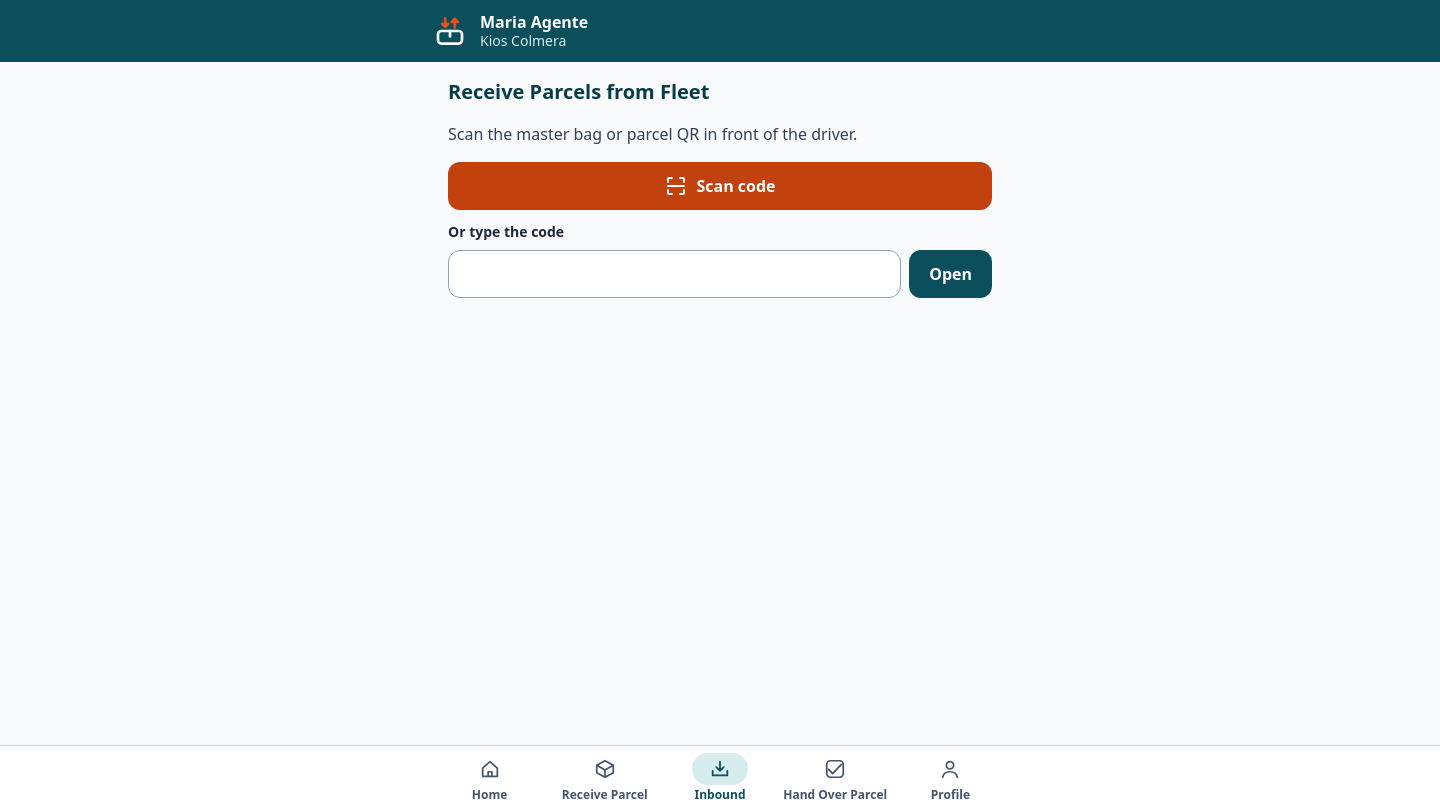
Test: inbound scan (destination kiosk) › shows the server’s message when the bag is not for this kiosk
Step 1. Type "MB-261121-7K3M9Q" into the field labelled "Or type the code" → x=675, y=274, box [448,250,901,298]
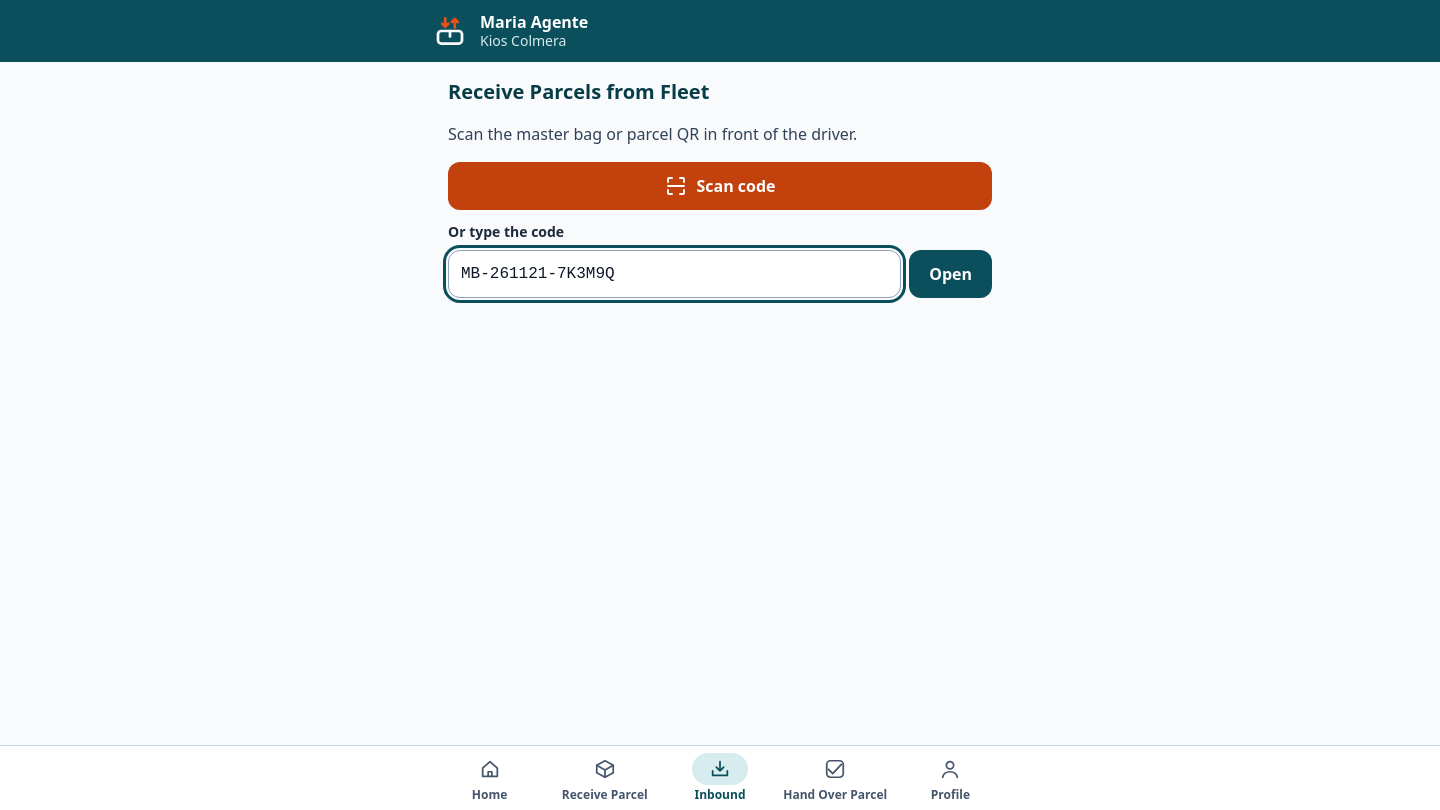
Step 2. Click the button "Open" → x=951, y=274, box [909,250,992,298]
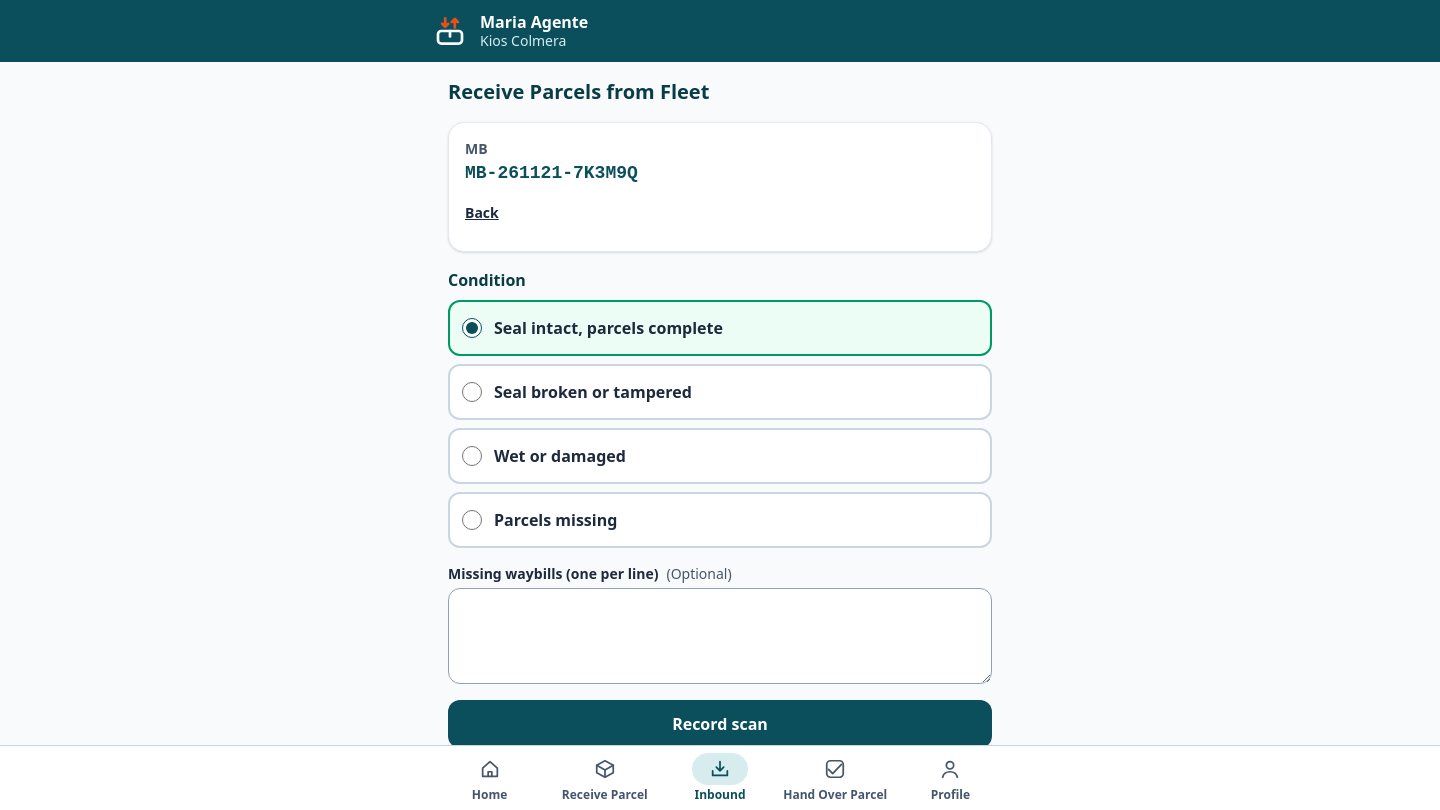
Step 3. Click the button "Record scan" → x=720, y=724, box [448,700,992,748]
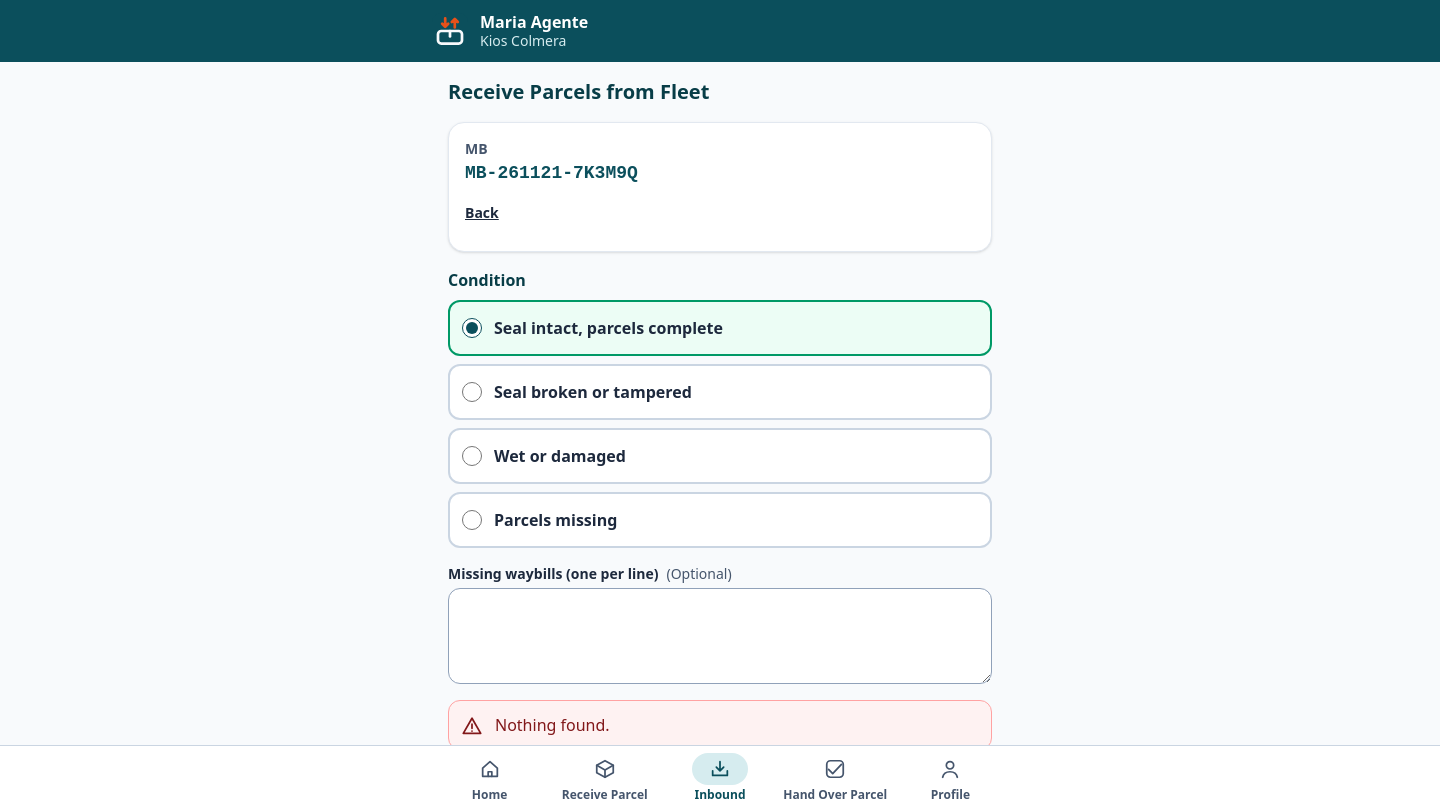
expect the text "Nothing found." is shown: met, box [495,714,610,736]
